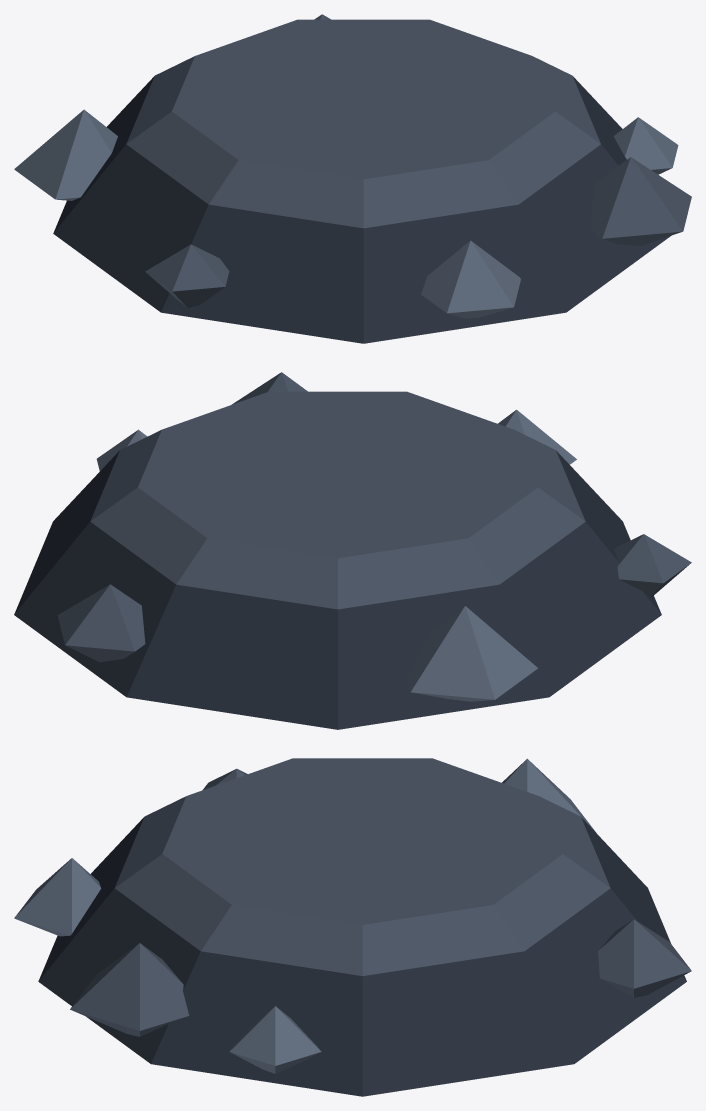
File: ore-node.obj
3 views of the same model, one above another, from view 1: azimuth 30°, elevation 25°; view 2: azimuth 150°, elevation 25°; view 3: azimuth 270°, elevation 25° (orthographic). The views are drawn at different scales.
Visible parts, largest first — view 1: ore-node; view 2: ore-node; view 3: ore-node.
Boxes of the visible parts, x1,y1,x2,y2 form: ore-node: (14, 14, 691, 343); ore-node: (14, 372, 691, 729); ore-node: (14, 758, 691, 1096).
Size of the model in its own units: 6.7 by 1.35 by 7.
